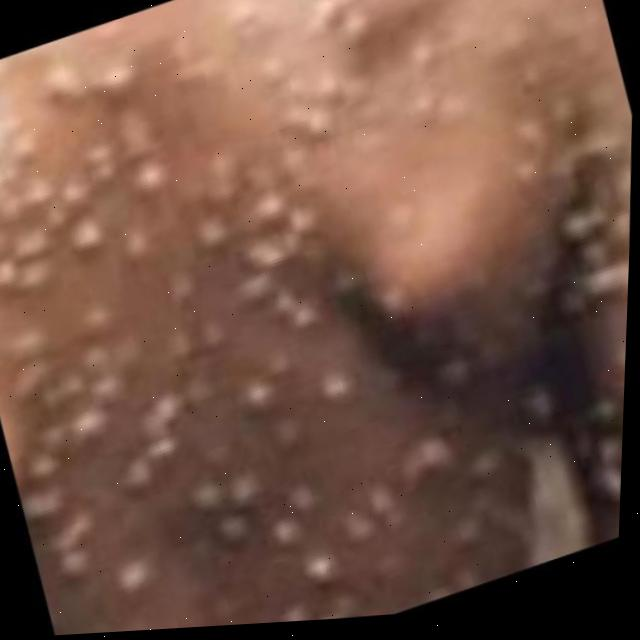Eczema: (0, 6, 638, 521)
